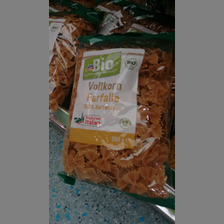pasta: (61, 34, 174, 202)
